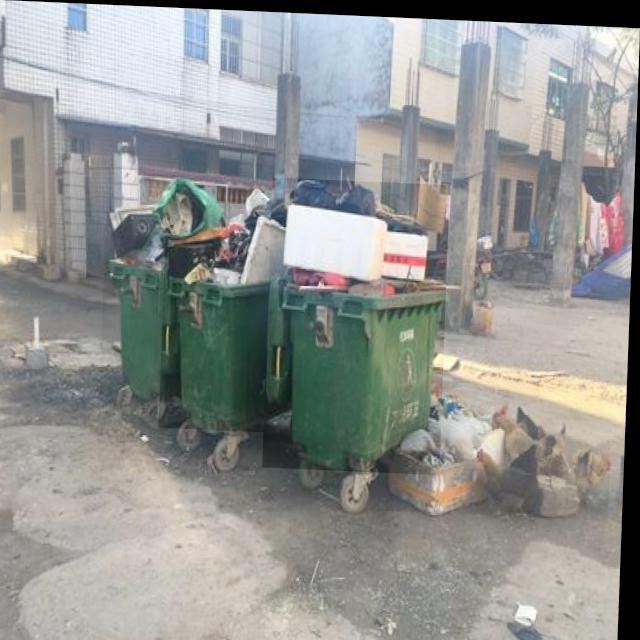garbage: (389, 383, 615, 515)
overflow: (266, 175, 451, 471), (162, 182, 300, 431), (103, 171, 223, 399)
